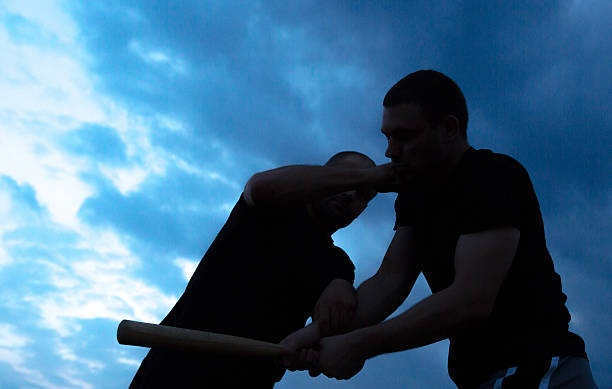bita: (105, 315, 359, 370)
